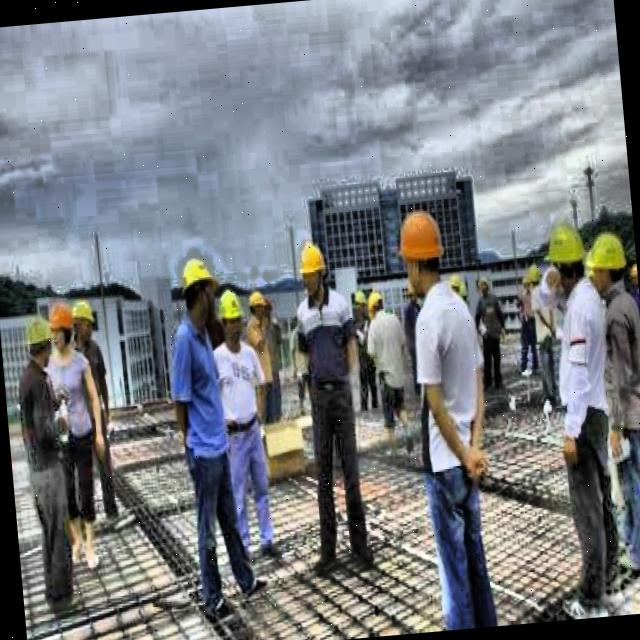helmet: (392, 197, 448, 299), (173, 245, 222, 332), (542, 211, 588, 296), (584, 228, 628, 299), (292, 232, 332, 300), (46, 296, 76, 359), (20, 314, 56, 366), (216, 290, 248, 347), (72, 294, 100, 350), (364, 284, 388, 328), (246, 286, 268, 324), (526, 256, 546, 294), (448, 266, 462, 294)
